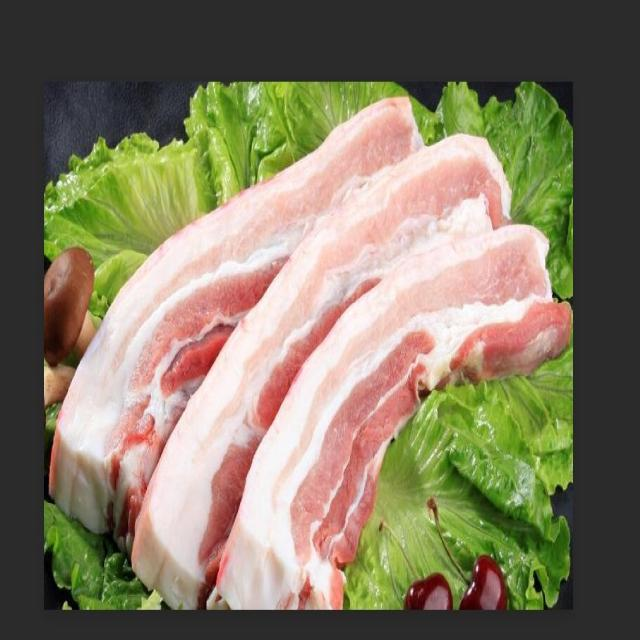--: (56, 86, 534, 599)
